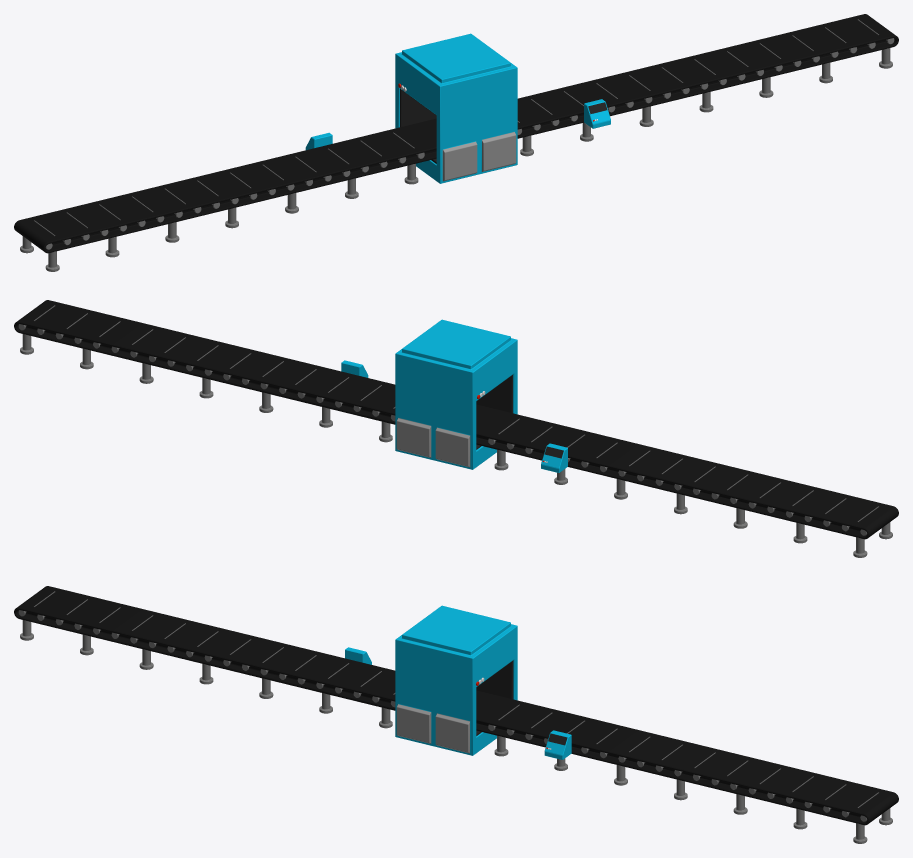
The model's file is conveior_belt.fbx.
The picture shows the model from 3 angles, top to bottom: view 1: azimuth 30°, elevation 25°; view 2: azimuth 150°, elevation 25°; view 3: azimuth 330°, elevation 25°; orthographic projection.
Parts seen in each view (by area): view 1: Cube.069, Cube.068, Cylinder.055, Cylinder.062, Cube.071, Cube.072; view 2: Cube.069, Cube.068, Cylinder.055, Cylinder.062, Cube.071, Cube.070; view 3: Cube.069, Cube.068, Cylinder.055, Cylinder.062, Cube.071, Cube.072.
Boxes of the visible parts, x1=… form: Cube.069: x1=14, y1=14, x2=898, y2=253; Cube.068: x1=395, y1=33, x2=517, y2=183; Cylinder.055: x1=20, y1=48, x2=892, y2=271; Cylinder.062: x1=45, y1=38, x2=894, y2=249; Cube.071: x1=34, y1=19, x2=878, y2=235; Cube.072: x1=584, y1=99, x2=610, y2=128; Cube.069: x1=14, y1=300, x2=898, y2=539; Cube.068: x1=395, y1=319, x2=517, y2=469; Cylinder.055: x1=20, y1=334, x2=892, y2=557; Cylinder.062: x1=18, y1=324, x2=867, y2=535; Cube.071: x1=34, y1=305, x2=878, y2=521; Cube.070: x1=541, y1=443, x2=567, y2=472; Cube.069: x1=14, y1=586, x2=898, y2=825; Cube.068: x1=395, y1=605, x2=517, y2=755; Cylinder.055: x1=20, y1=620, x2=892, y2=843; Cylinder.062: x1=18, y1=610, x2=867, y2=821; Cube.071: x1=34, y1=591, x2=878, y2=807; Cube.072: x1=544, y1=730, x2=571, y2=759.
Size of the model in its own units: 2200 by 250 by 215.
